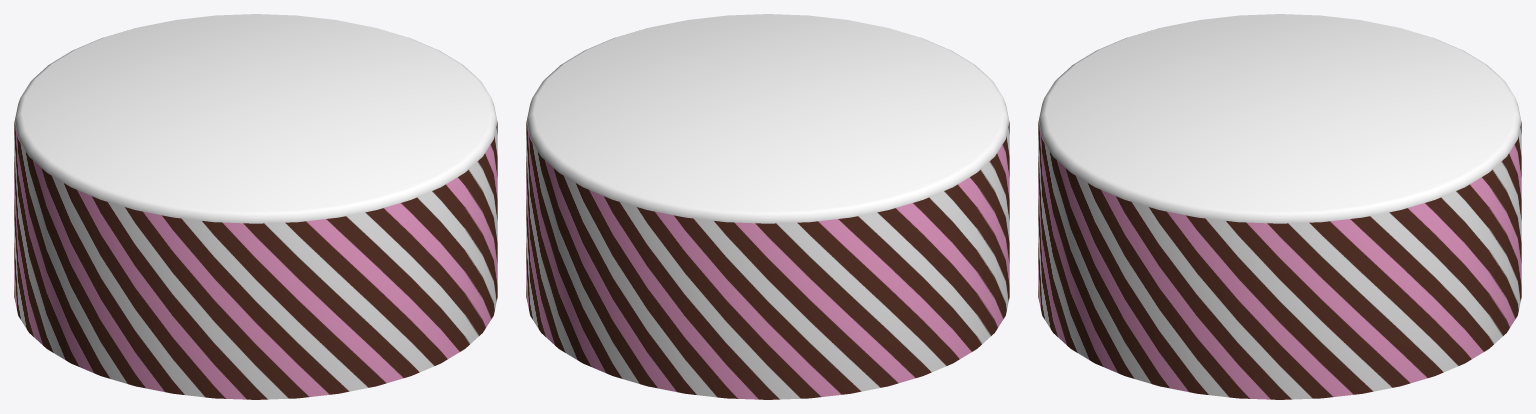
File: Cake_Medfix.fbx
The picture shows the model from 3 angles, left to right: view 1: azimuth 30°, elevation 25°; view 2: azimuth 150°, elevation 25°; view 3: azimuth 270°, elevation 25°; orthographic projection.
Parts seen in each view (by area): view 1: Cake_Med; view 2: Cake_Med; view 3: Cake_Med.
Part boxes in pixels (left/top/right/bottom): Cake_Med: left=14, top=14, right=497, bottom=399; Cake_Med: left=526, top=14, right=1009, bottom=399; Cake_Med: left=1038, top=14, right=1521, bottom=399.
Bounding box in the file's own units: 18628 × 7875 × 18628.
